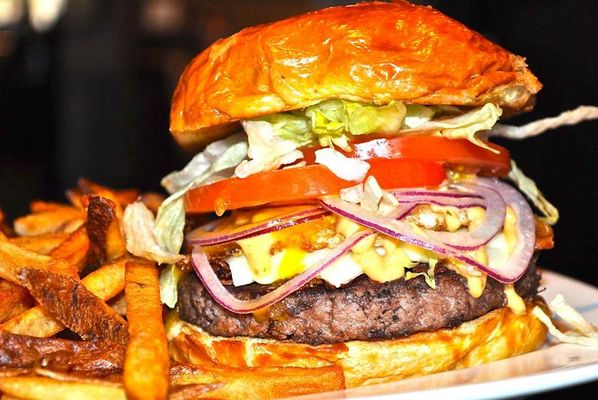soup: (162, 2, 571, 379)
